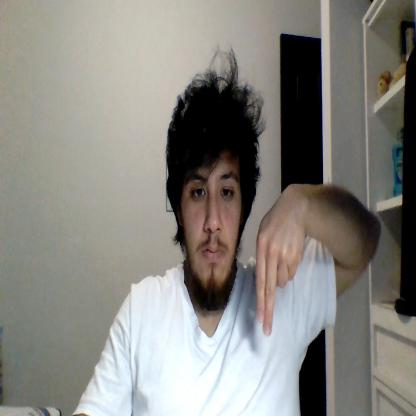N: (255, 186, 306, 336)
